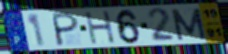1: (26, 12, 46, 48)
2: (145, 7, 177, 44)
6: (115, 8, 144, 45)
H: (83, 10, 118, 46)
M: (169, 7, 208, 42)
P: (52, 11, 80, 48)
